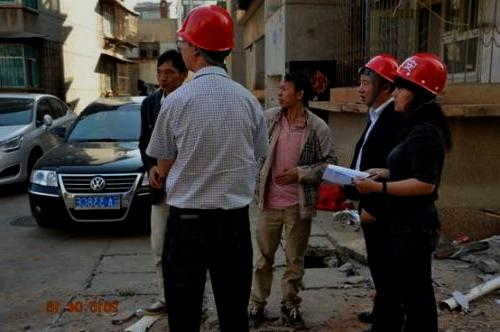no_helmet: (273, 68, 315, 114), (150, 48, 189, 90)
